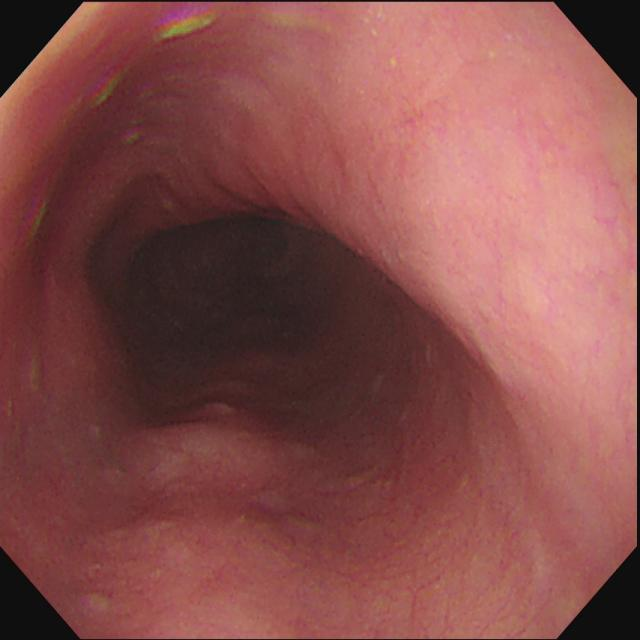A: (114, 392, 301, 586)
E: (113, 183, 310, 340)
J: (90, 11, 219, 105)
